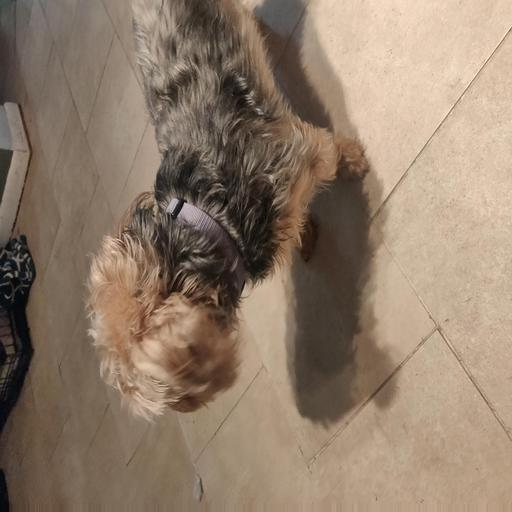dog: (29, 12, 441, 424)
